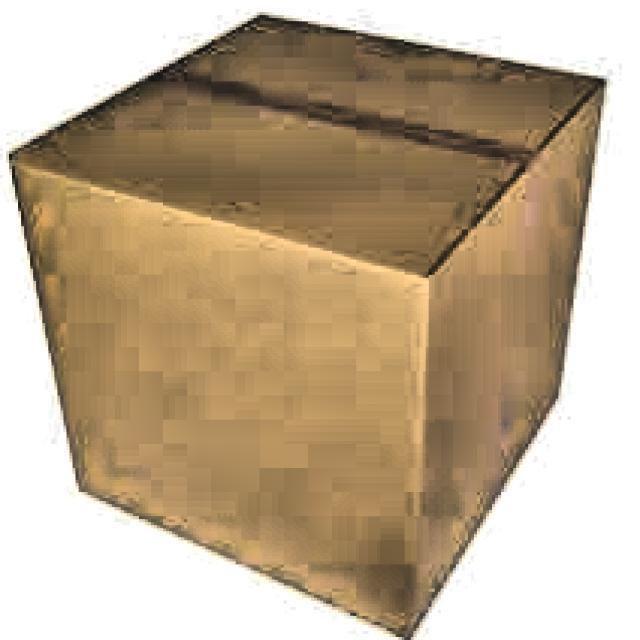cardboard: (9, 9, 610, 640)
